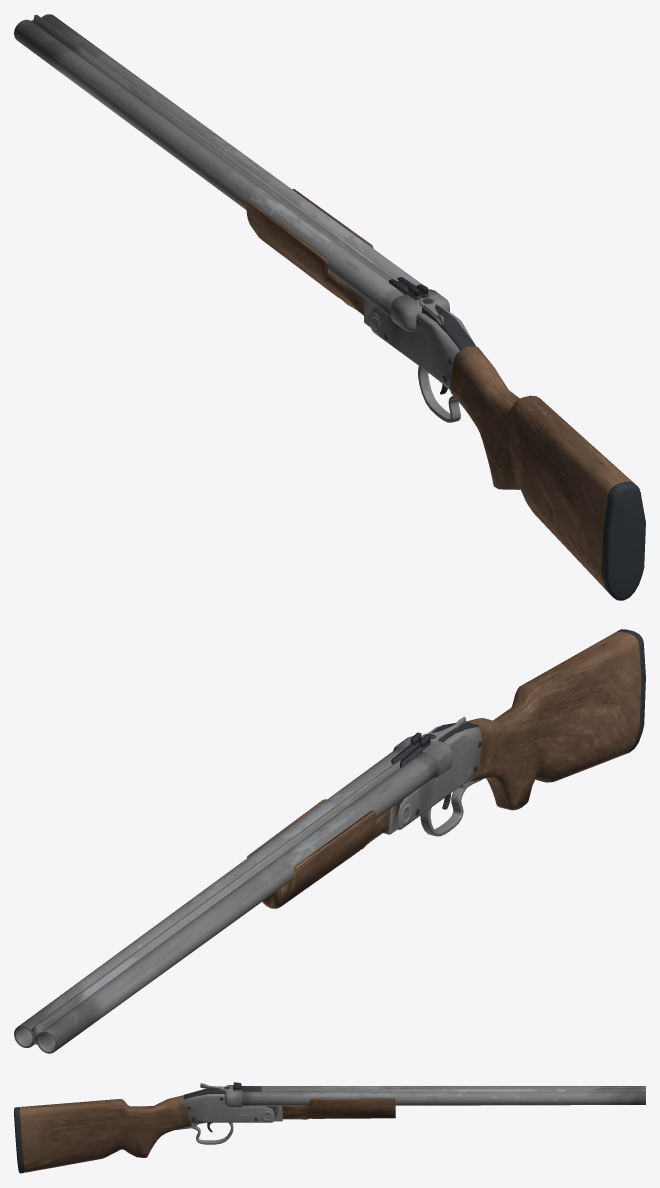
Rendered from shotgun-transformed.glb.
3 views of the same model, one above another, from view 1: azimuth 30°, elevation 25°; view 2: azimuth 150°, elevation 25°; view 3: azimuth 270°, elevation 25° (orthographic). The views are drawn at different scales.
Visible parts, largest first — view 1: defaultMaterial (×3); view 2: defaultMaterial (×3); view 3: defaultMaterial (×3).
Part boxes in pixels (bbox=[...]): defaultMaterial (×3): bbox=[14, 14, 645, 600]; defaultMaterial (×3): bbox=[14, 629, 645, 1053]; defaultMaterial (×3): bbox=[14, 1082, 645, 1173].
Size of the model in its own units: 0.1648 by 0.5039 by 3.26.
Materials: 3 (3 with a texture image).
